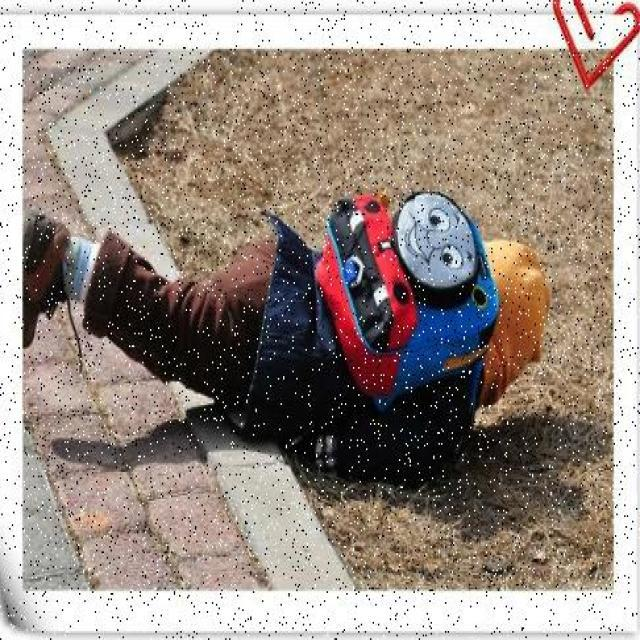fall: (26, 192, 546, 428)
